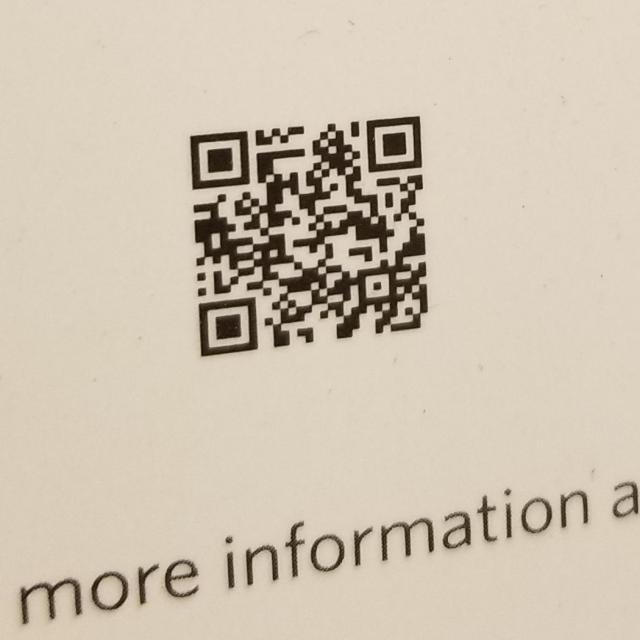QRCode: (170, 98, 449, 373)
